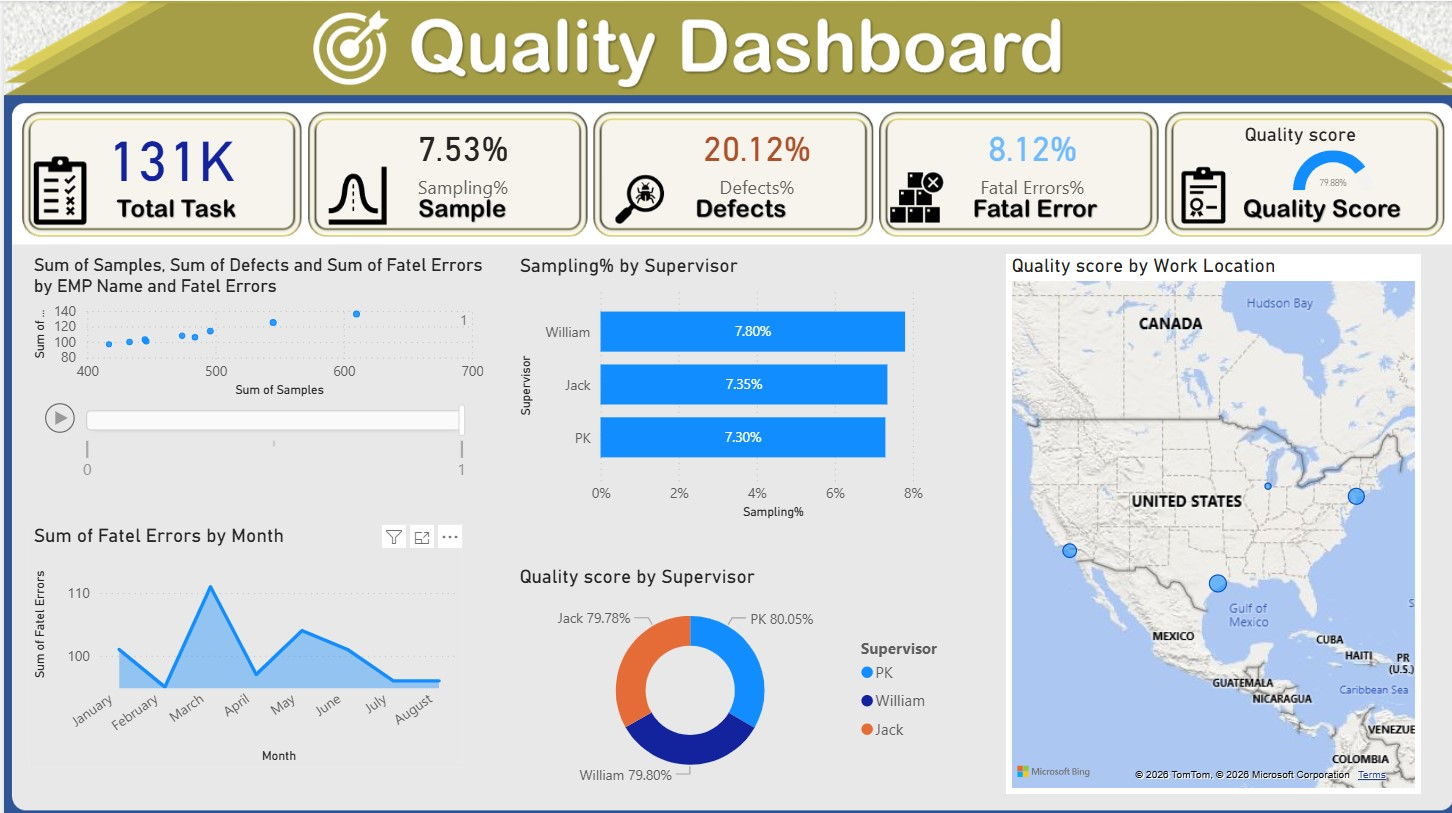

The page's visual inventory and layout, read from the dashboard file:
{"tool":"powerbi","page":{"name":"Quality Dashboard","canvas":[1280,720],"ordinal":0},"visuals":[{"type":"card","fields":{"Values":["Sum(Quality Data.Total Task)"]},"box":[83.1,99.5,127,71.3],"z":0},{"type":"gauge","fields":{"Y":["Quality Data.Quality score"]},"box":[1084.4,107.1,165.1,64.1],"z":4000},{"type":"card","fields":{"Values":["Quality Data.Fatal Errors%"]},"box":[786.7,83.4,232.7,109.8],"z":5000},{"type":"card","fields":{"Values":["Quality Data.Defects%"]},"box":[544.4,81.7,233.6,113.3],"z":6000},{"type":"card","fields":{"Values":["Quality Data.Sampling%"]},"box":[286.2,68.5,233.6,140.5],"z":7000},{"type":"scatterChart","fields":{"Y":["Sum(Quality Data.Defects)"],"X":["Sum(Quality Data.Samples)"],"Category":["Emp Master.EMP Name"],"Size":["Sum(Quality Data.Fatel Errors)"],"Play":["Quality Data.Fatel Errors"]},"box":[21.1,222.1,404.8,209.9],"z":8000},{"type":"areaChart","fields":{"Y":["Sum(Quality Data.Fatel Errors)"],"Category":["Quality Data.Date.Variation.Date Hierarchy.Month"]},"box":[21.1,459.2,382,214.2],"z":9000},{"type":"donutChart","fields":{"Y":["Quality Data.Quality score"],"Category":["Emp Master.Supervisor"]},"box":[447.8,495.2,393.4,201.1],"z":10000},{"type":"clusteredBarChart","fields":{"Category":["Emp Master.Supervisor"],"Y":["Quality Data.Sampling%"]},"box":[447.8,222.1,393.4,237.1],"z":11000},{"type":"map","fields":{"Category":["Emp Master.Work Location"],"Size":["Quality Data.Quality score"]},"box":[879.8,222.1,363.5,474.1],"z":12000}]}

Visuals, with their boxes in screenshot pixels (x1, y1, x2, y2), scaled from the page's 1280x720 canvas onto the 1452x813 screenshot:
card - Sum(Quality Data.Total Task): left=94, top=112, right=238, bottom=193
gauge - Quality Data.Quality score: left=1230, top=121, right=1417, bottom=193
card - Quality Data.Fatal Errors%: left=892, top=94, right=1156, bottom=218
card - Quality Data.Defects%: left=618, top=92, right=883, bottom=220
card - Quality Data.Sampling%: left=325, top=77, right=590, bottom=236
scatterChart - Sum(Quality Data.Defects) x Sum(Quality Data.Samples): left=24, top=251, right=483, bottom=488
areaChart - Sum(Quality Data.Fatel Errors) x Quality Data.Date.Variation.Date Hierarchy.Month: left=24, top=519, right=457, bottom=760
donutChart - Quality Data.Quality score x Emp Master.Supervisor: left=508, top=559, right=954, bottom=786
clusteredBarChart - Emp Master.Supervisor x Quality Data.Sampling%: left=508, top=251, right=954, bottom=519
map - Emp Master.Work Location x Quality Data.Quality score: left=998, top=251, right=1410, bottom=786
